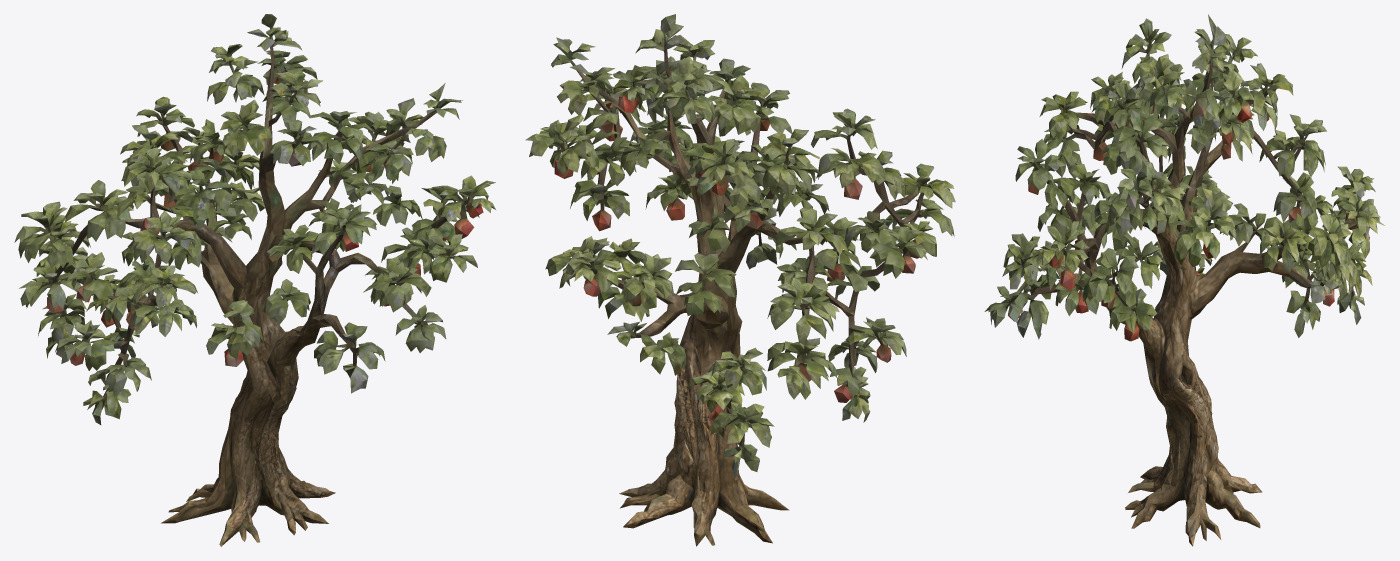
The model's file is apple_tree.glb.
3 views of the same model, side by side, from view 1: azimuth 30°, elevation 25°; view 2: azimuth 150°, elevation 25°; view 3: azimuth 270°, elevation 25° (orthographic). The views are drawn at different scales.
Visible parts, largest first — view 1: tripo_node_dd9c1018-dd7a-4ddd-b881-009978f38cca; view 2: tripo_node_dd9c1018-dd7a-4ddd-b881-009978f38cca; view 3: tripo_node_dd9c1018-dd7a-4ddd-b881-009978f38cca.
Boxes of the visible parts, bbox=[...] form: tripo_node_dd9c1018-dd7a-4ddd-b881-009978f38cca: bbox=[14, 14, 495, 546]; tripo_node_dd9c1018-dd7a-4ddd-b881-009978f38cca: bbox=[525, 14, 955, 546]; tripo_node_dd9c1018-dd7a-4ddd-b881-009978f38cca: bbox=[984, 14, 1384, 546].
Bounding box in the file's own units: 4.73 × 5.8 × 4.2.
1 material, 1 textured.
